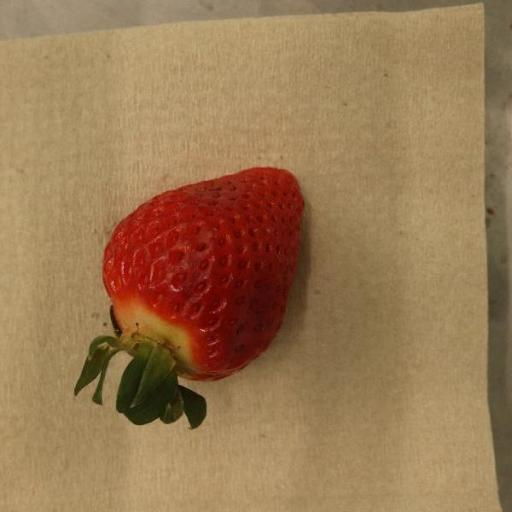Strawberry: (73, 167, 305, 431)
